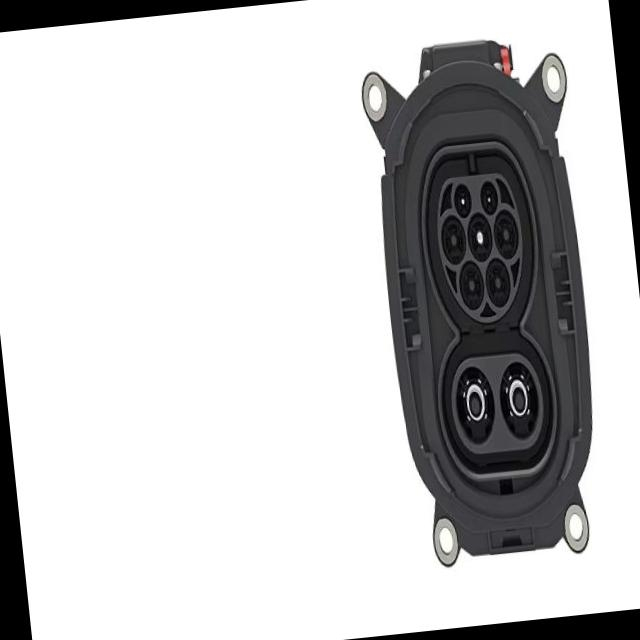inlet: (436, 173, 523, 323)
inlet-above-left: (453, 183, 471, 218)
inlet-above-right: (480, 180, 497, 215)
inlet-below-left: (459, 261, 484, 309)
inlet-below-right: (485, 257, 510, 307)
inlet-center: (467, 212, 492, 263)
inlet-center-left: (441, 214, 466, 264)
inlet-center-right: (493, 209, 518, 260)
